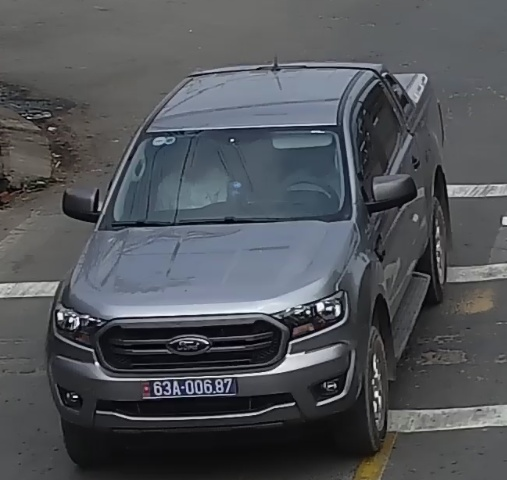vehicle plate: (139, 374, 242, 398)
